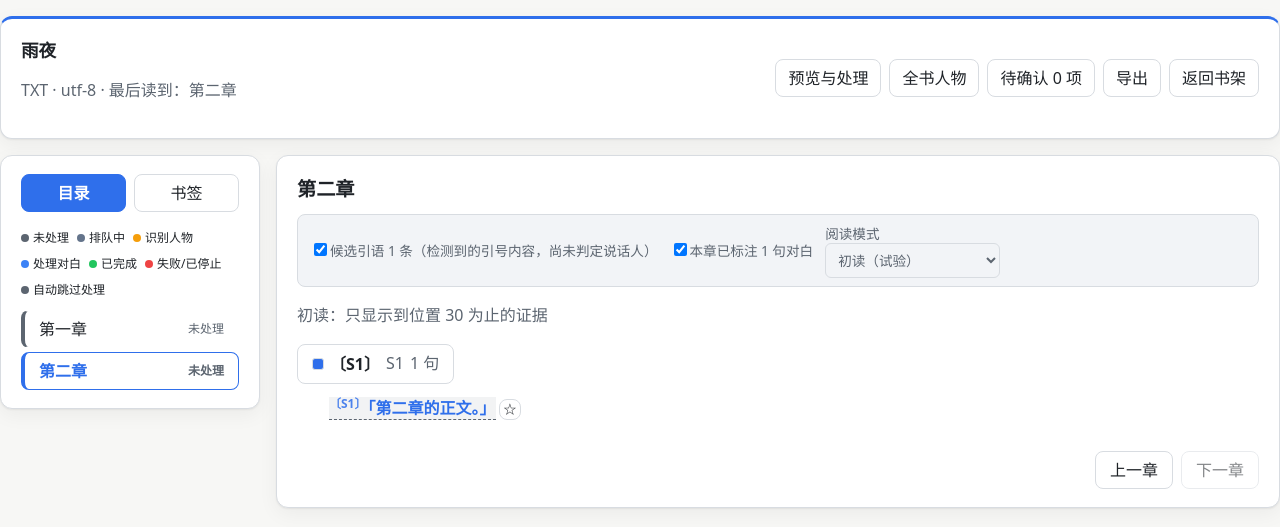
it: ReaderPage › 右下角上一章/下一章沿目录切换并保存阅读位置（initial）
Expected: the text "〔S1〕「第二章的正文。」" is shown, [329,397,496,419]
Expected: the button "下一章" is disabled, [1181,451,1259,489]
Click the button "上一章".
click(1134, 470)  # box [1095,451,1173,489]
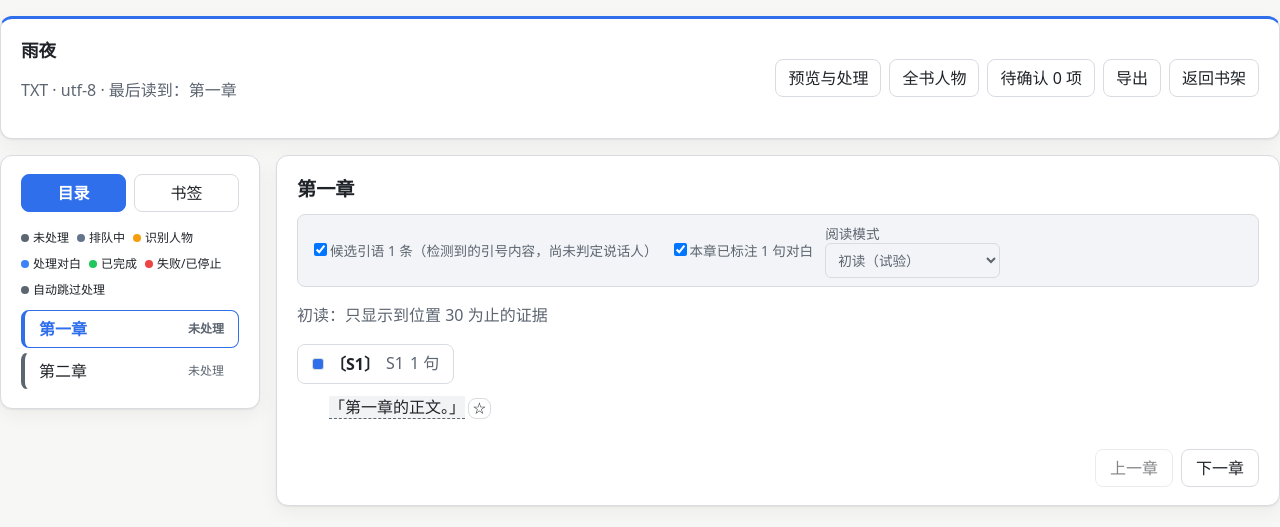
Expected: the text "「第一章的正文。」" is shown, [329,396,465,419]
Expected: the button "上一章" is disabled, [1095,449,1173,487]
Click the button "下一章".
click(1220, 468)  # box [1181,449,1259,487]
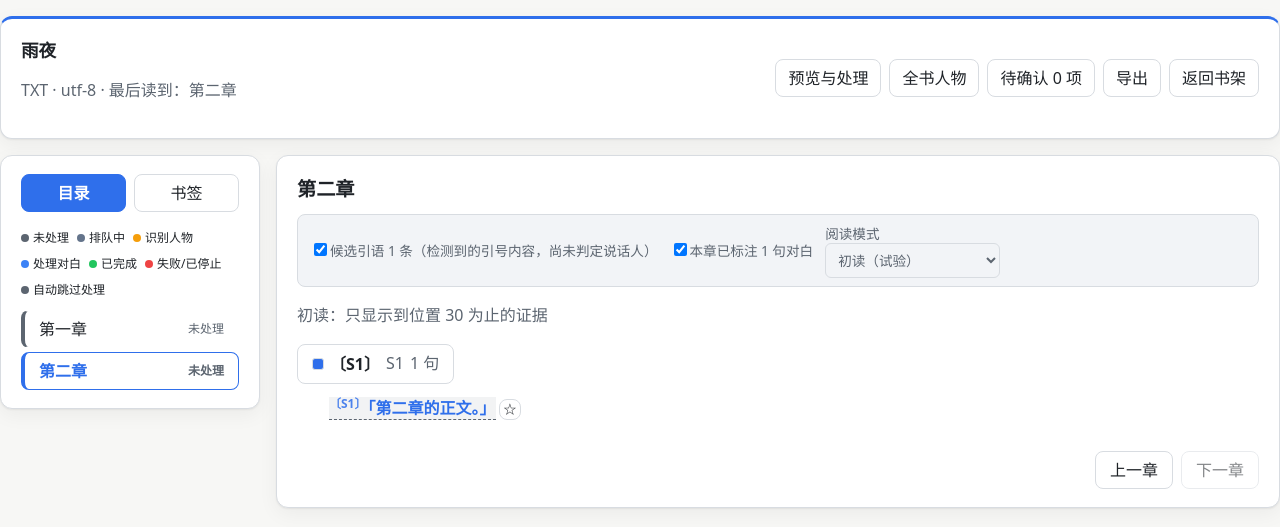
Expected: the text "〔S1〕「第二章的正文。」" is shown, [329,397,496,419]
